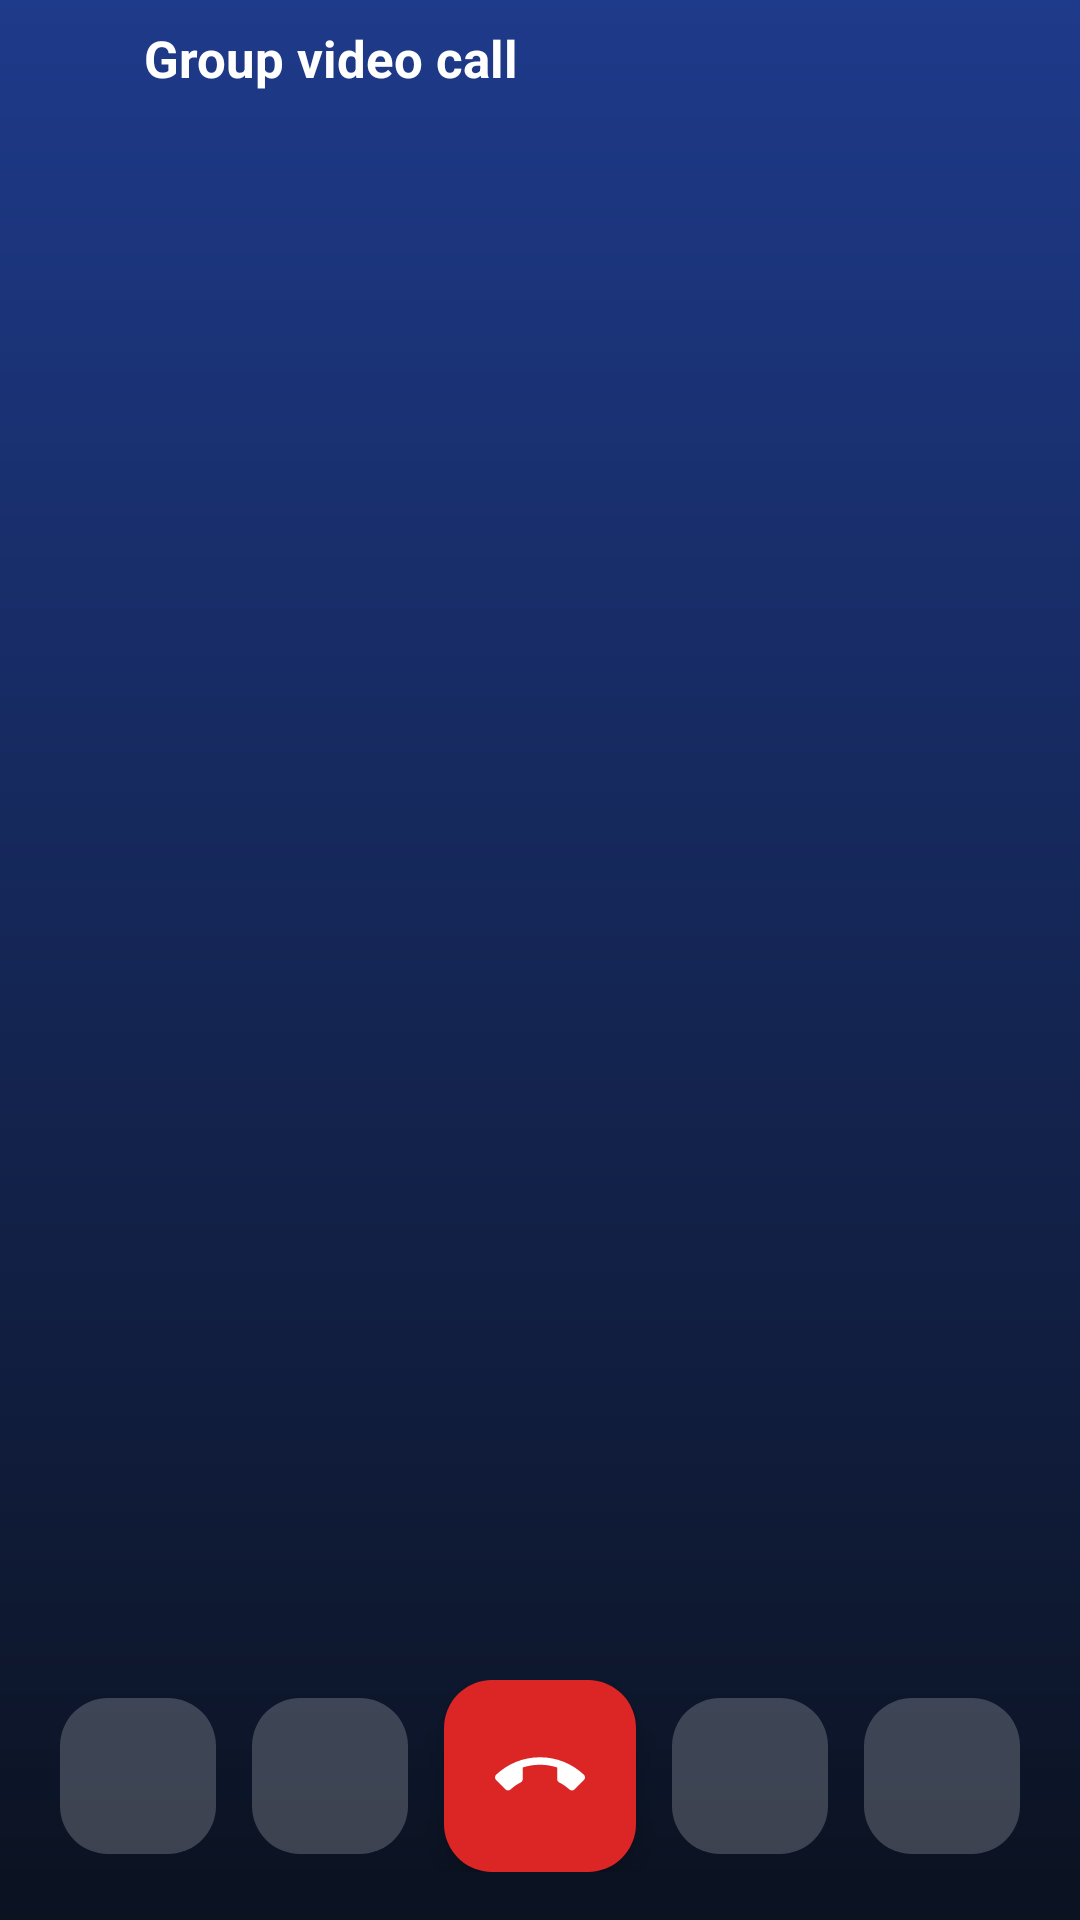

Locate icon controls on the screen. Image size 1080 x 1920, boxes as (x1, y1, x2, y2).
Leave: (444, 1680, 636, 1872)
